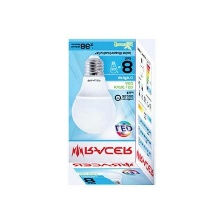carton: (65, 33, 158, 187)
